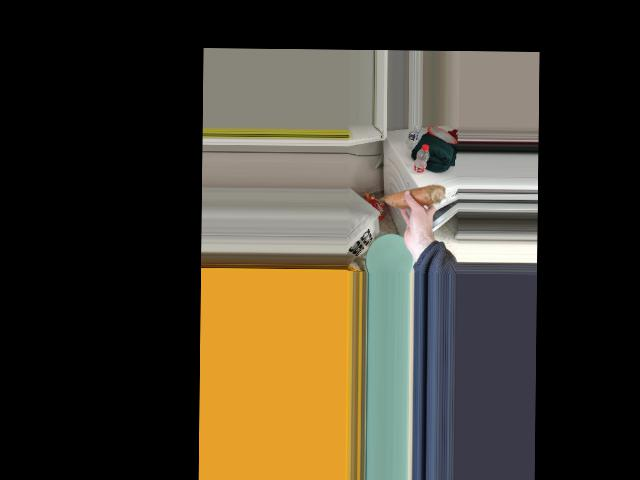sweet_potato: (382, 189, 445, 206)
